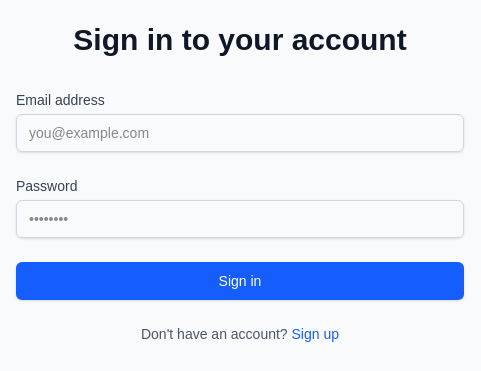
Test: Login Page - Form Validation › should display validation error when password is less than 6 characters
The width and height of the screenshot is (481, 371).
In the field with placeholder "you@example.com": (240, 133) 16,114 -> 464,152, type "test@example.com"
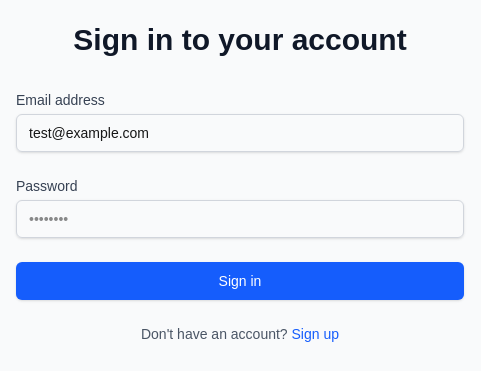
In the password field with placeholder "••••••••": (240, 219) 16,200 -> 464,238, type "12345"
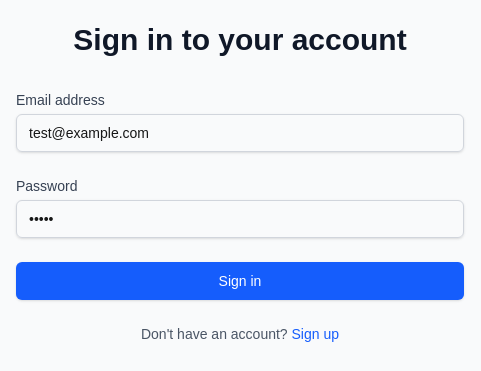
Click the button "Sign in": (240, 281) 16,262 -> 464,300
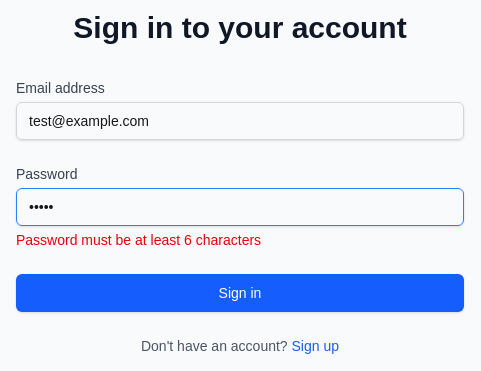
expect the text "Password must be at least 6 characters" is shown: met, box 16,232 -> 261,248
